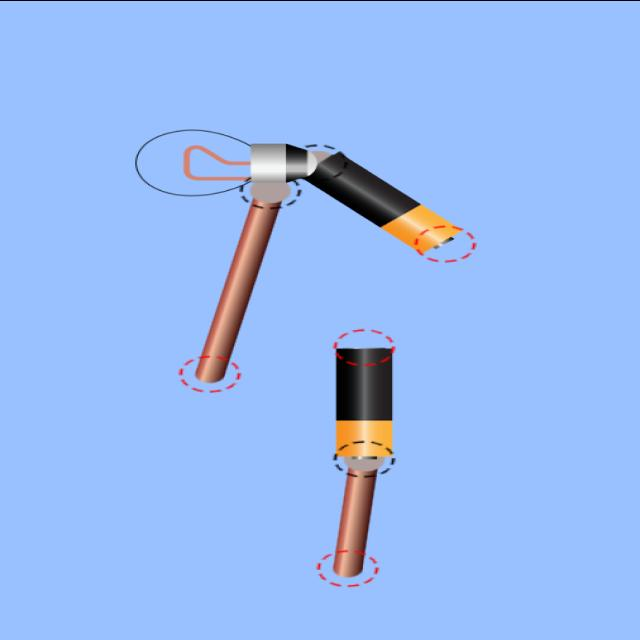Battery: (303, 151, 460, 252), (336, 348, 392, 456)
Light Bulb: (136, 129, 320, 195)
Wire: (194, 182, 289, 382), (332, 468, 375, 576)
